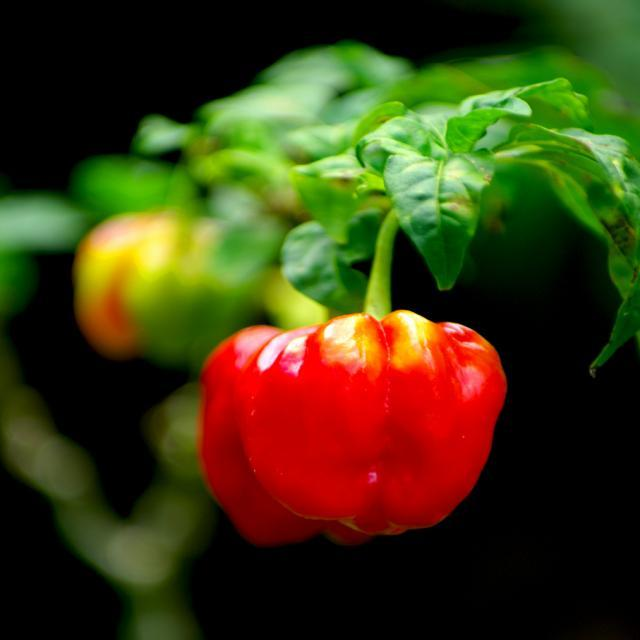Bell pepper: (183, 213, 511, 547)
